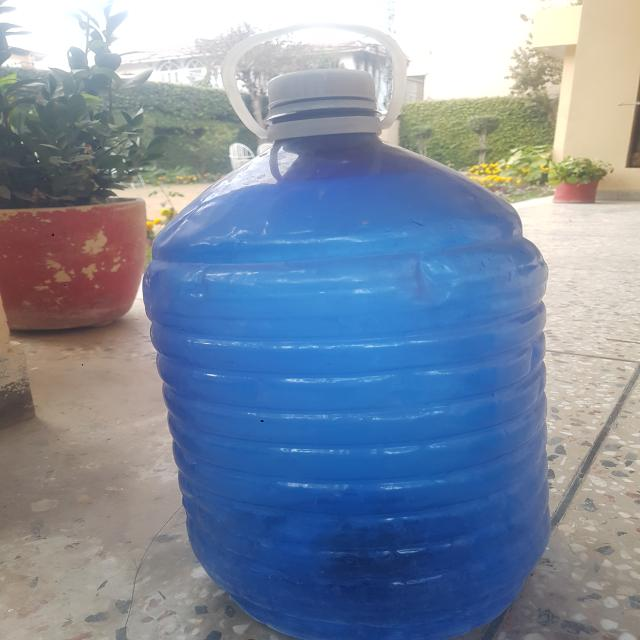general: (141, 24, 553, 638)
